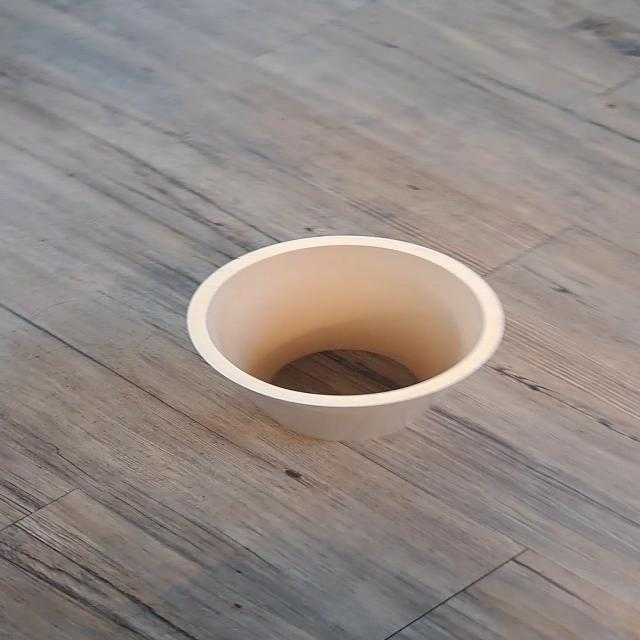CORAL: (134, 217, 542, 472)
